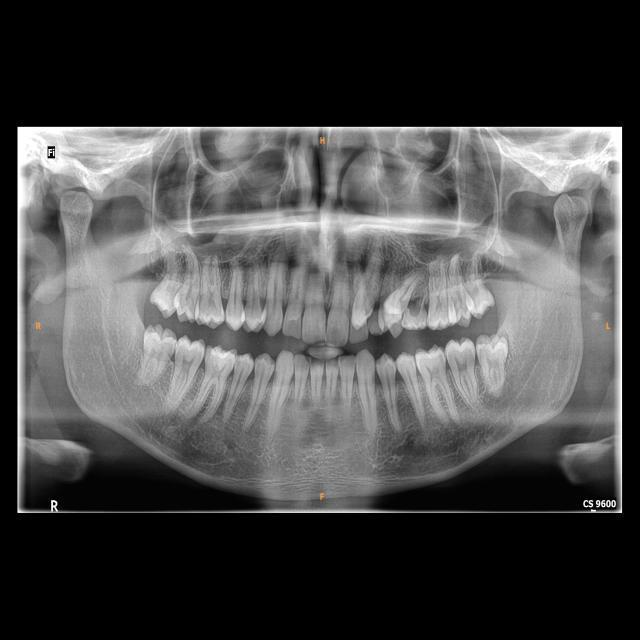dentin-curugu: (403, 296, 427, 318)
